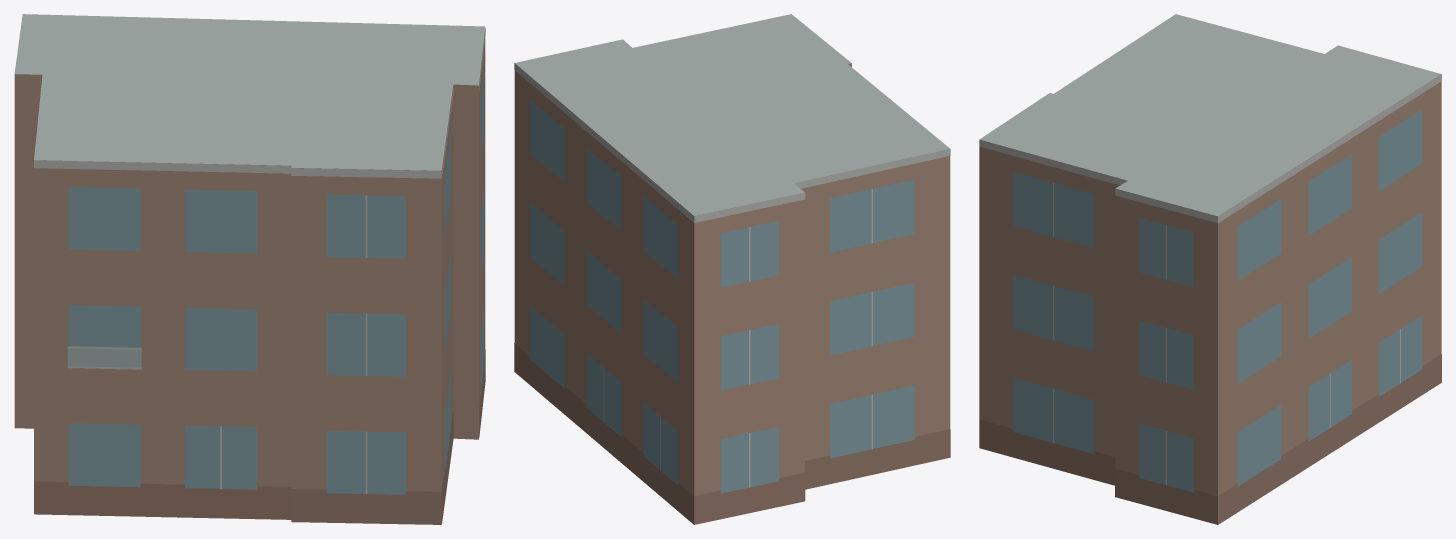
The model's file is survey-upis-32512150.glb.
3 renders of one model, left to right at view 1: azimuth 30°, elevation 25°; view 2: azimuth 150°, elevation 25°; view 3: azimuth 270°, elevation 25°, orthographic. The views are drawn at different scales.
Visible parts, largest first — view 1: survey-upis-32512150.tmp; view 2: survey-upis-32512150.tmp; view 3: survey-upis-32512150.tmp.
Boxes of the visible parts, x1=… form: survey-upis-32512150.tmp: x1=14, y1=14, x2=485, y2=524; survey-upis-32512150.tmp: x1=514, y1=14, x2=950, y2=524; survey-upis-32512150.tmp: x1=979, y1=14, x2=1441, y2=524.
Bounding box in the file's own units: 15.19 × 10.8 × 14.68.
